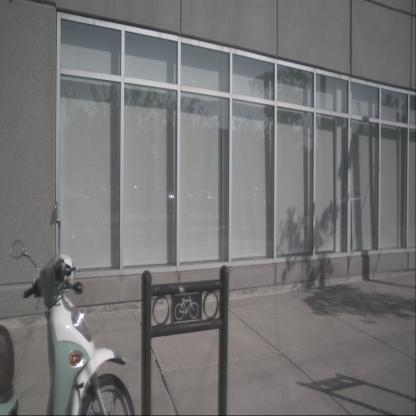vehicle-motorcycle: (0, 254, 135, 416)
